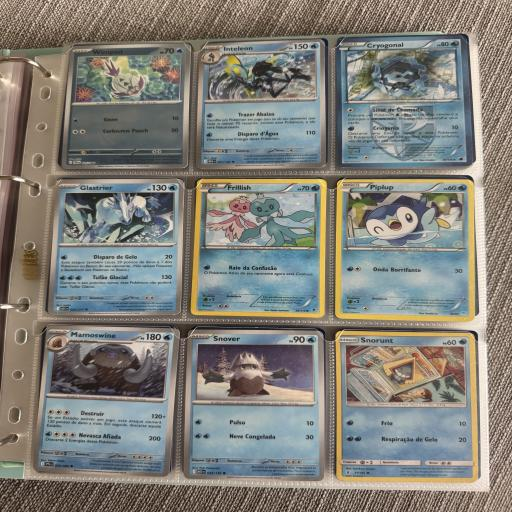card: (32, 323, 180, 477), (336, 330, 479, 484), (184, 329, 327, 481), (335, 180, 474, 321), (190, 176, 327, 318), (48, 178, 184, 315), (336, 35, 473, 168), (196, 39, 325, 170), (61, 42, 191, 170)
